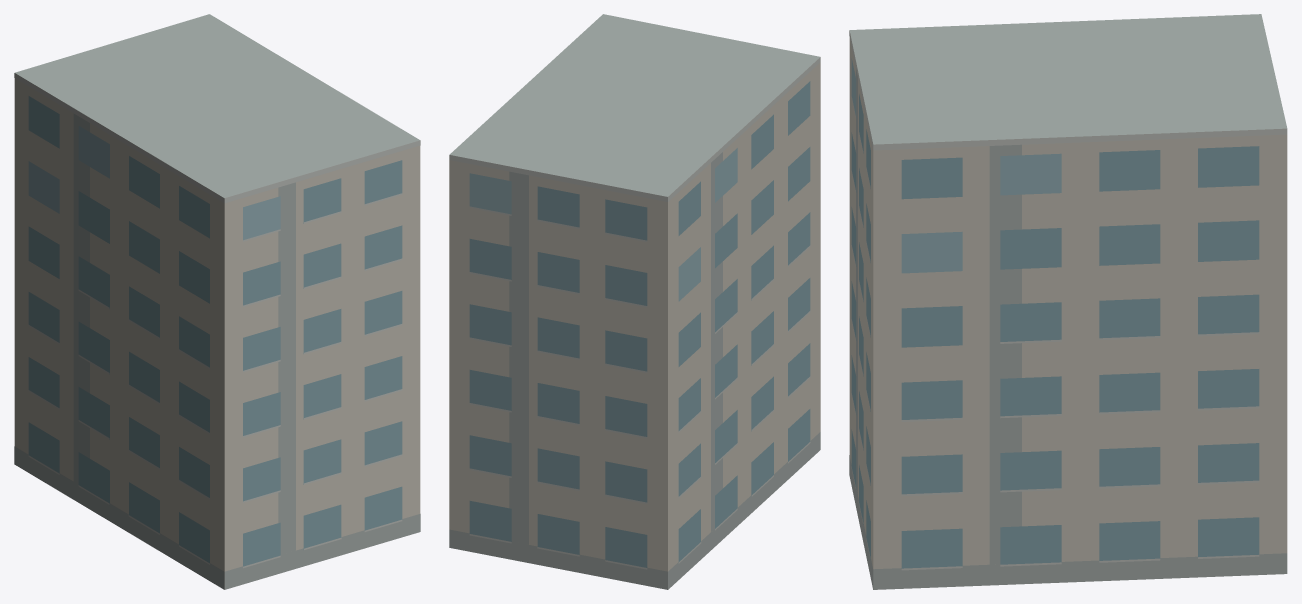
File: survey-upis-32609831.glb
The picture shows the model from 3 angles, left to right: view 1: azimuth 30°, elevation 25°; view 2: azimuth 150°, elevation 25°; view 3: azimuth 270°, elevation 25°; orthographic projection. The views are drawn at different scales.
Visible parts, largest first — view 1: survey-upis-32609831.tmp; view 2: survey-upis-32609831.tmp; view 3: survey-upis-32609831.tmp.
Part boxes in pixels (<box>): survey-upis-32609831.tmp: <box>14,14,420,589</box>; survey-upis-32609831.tmp: <box>449,14,820,589</box>; survey-upis-32609831.tmp: <box>849,14,1287,589</box>.
Size of the model in its own units: 11.51 by 18.3 by 16.32.
